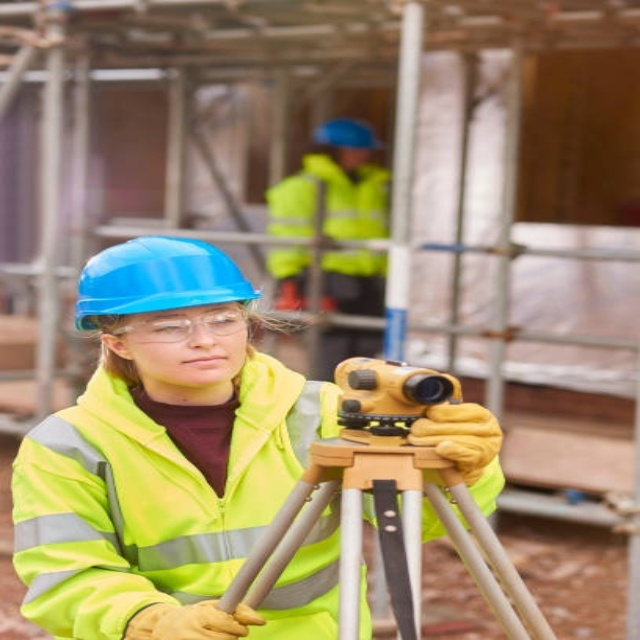Gafas: (110, 307, 253, 342), (313, 118, 384, 150), (333, 145, 375, 167)
Guantes: (406, 401, 504, 487), (128, 598, 261, 640)
Sin_mascara: (171, 349, 232, 375)
